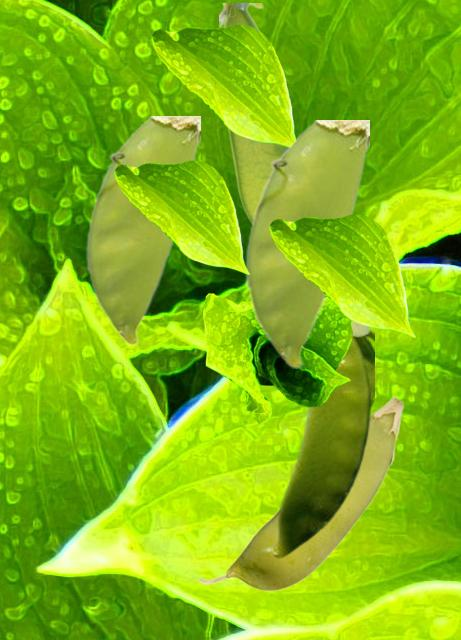pea: (198, 396, 403, 590), (245, 120, 368, 367), (260, 322, 373, 557), (86, 116, 199, 344), (219, 3, 285, 223)
